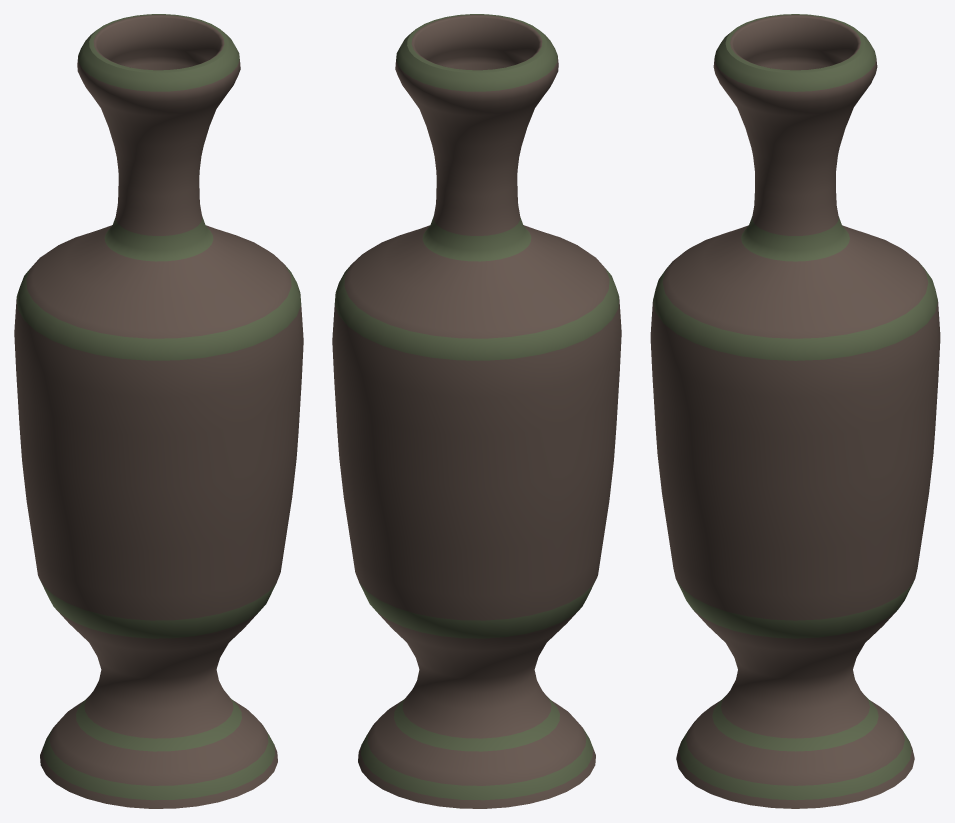
The model's file is pot06.fbx.
3 renders of one model, left to right at view 1: azimuth 30°, elevation 25°; view 2: azimuth 150°, elevation 25°; view 3: azimuth 270°, elevation 25°, orthographic.
Parts seen in each view (by area): view 1: pot06; view 2: pot06; view 3: pot06.
Part boxes in pixels (bbox=[...]): pot06: bbox=[14, 14, 303, 808]; pot06: bbox=[332, 14, 621, 808]; pot06: bbox=[650, 14, 940, 808].
Size of the model in its own units: 0.3252 by 0.8858 by 0.3252.
